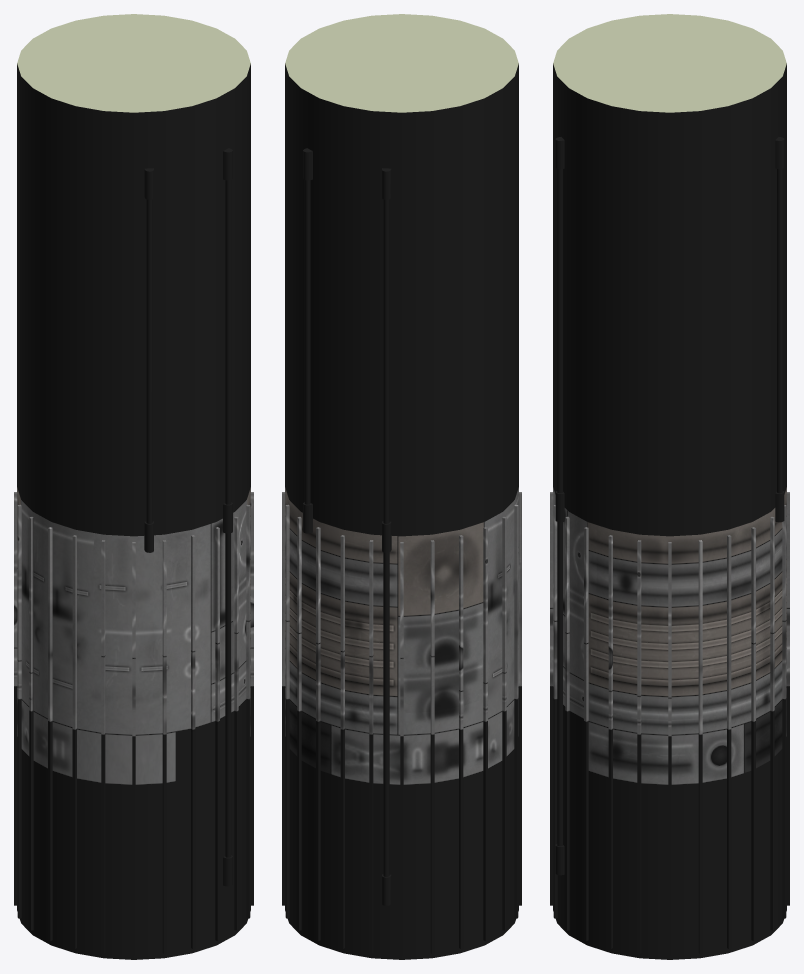
File: Streak_FuelTank_1p5_1.obj
3 views of the same model, side by side, from view 1: azimuth 30°, elevation 25°; view 2: azimuth 150°, elevation 25°; view 3: azimuth 270°, elevation 25° (orthographic).
Parts seen in each view (by area): view 1: Streak_FuelTank_1p5_1_Streak_FuelTank_1p5_1_auv, Streak_FuelTank_1p5_1_default; view 2: Streak_FuelTank_1p5_1_Streak_FuelTank_1p5_1_auv, Streak_FuelTank_1p5_1_default; view 3: Streak_FuelTank_1p5_1_Streak_FuelTank_1p5_1_auv, Streak_FuelTank_1p5_1_default.
Boxes of the visible parts, left/top/right/bottom form: Streak_FuelTank_1p5_1_Streak_FuelTank_1p5_1_auv: left=14, top=63, right=253, bottom=959; Streak_FuelTank_1p5_1_default: left=17, top=14, right=250, bottom=112; Streak_FuelTank_1p5_1_Streak_FuelTank_1p5_1_auv: left=282, top=63, right=521, bottom=959; Streak_FuelTank_1p5_1_default: left=285, top=14, right=518, bottom=112; Streak_FuelTank_1p5_1_Streak_FuelTank_1p5_1_auv: left=550, top=63, right=789, bottom=959; Streak_FuelTank_1p5_1_default: left=553, top=14, right=786, bottom=112.
Size of the model in its own units: 1.93 by 7.5 by 1.92.
